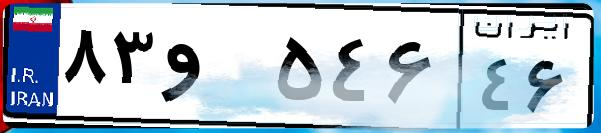3: (110, 28, 158, 98)
4: (330, 28, 385, 110), (475, 38, 525, 113)
5: (270, 28, 330, 110)
6: (385, 28, 445, 110), (525, 38, 570, 115)
8: (57, 26, 110, 100)
و: (158, 20, 270, 120)
